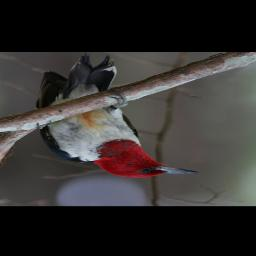Woodpecker: (36, 53, 200, 179)
